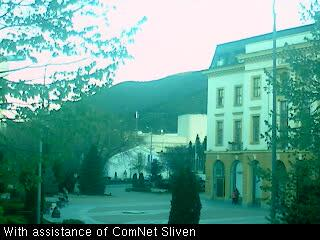person: (234, 188, 240, 206), (64, 189, 68, 205), (231, 192, 235, 205)
